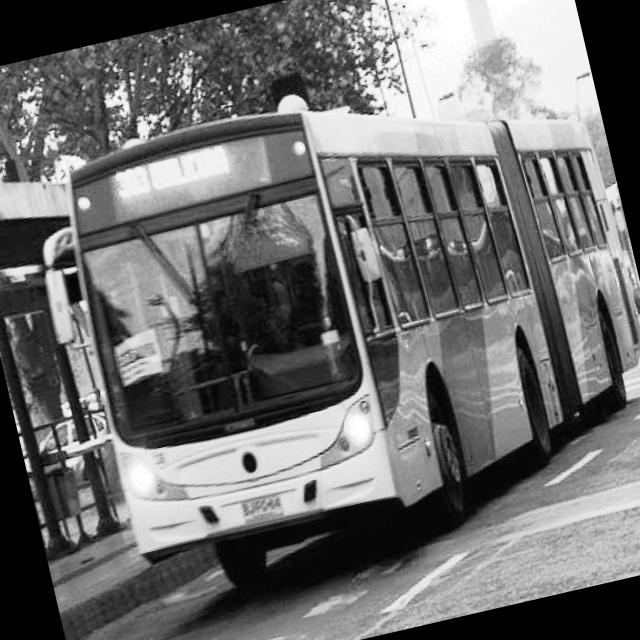Bus: (17, 0, 640, 602)
